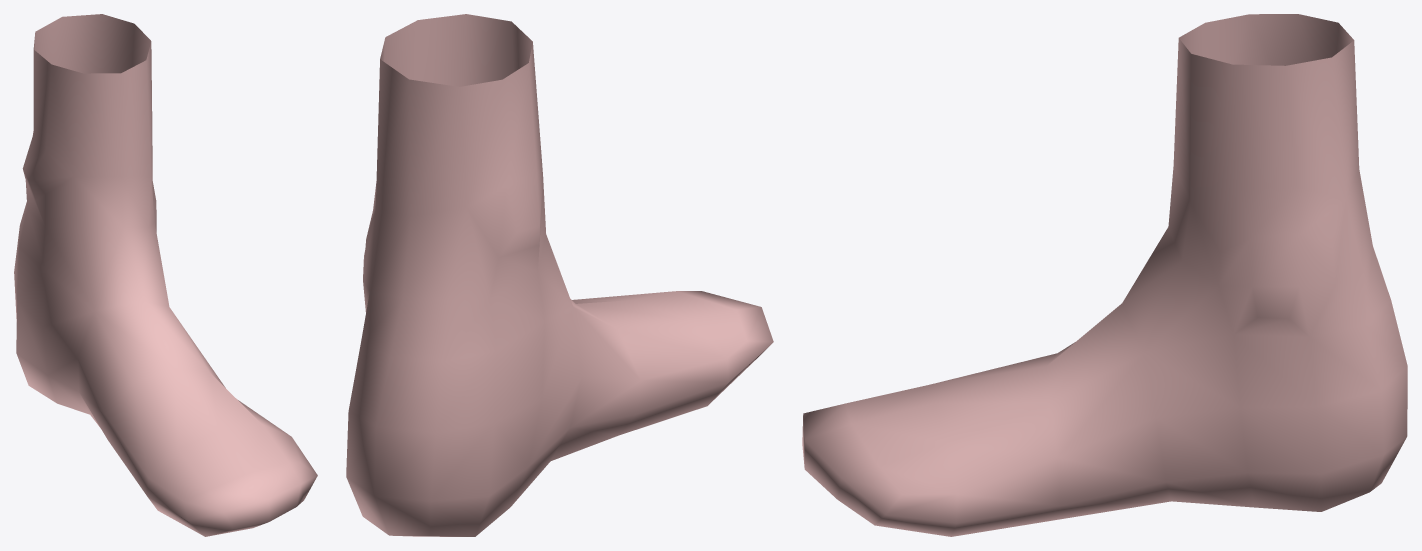
File: Superhero_Female_A_Foot02.fbx
The picture shows the model from 3 angles, left to right: view 1: azimuth 30°, elevation 25°; view 2: azimuth 150°, elevation 25°; view 3: azimuth 270°, elevation 25°; orthographic projection. The views are drawn at different scales.
Visible parts, largest first — view 1: Superhero_Female_A_Foot02; view 2: Superhero_Female_A_Foot02; view 3: Superhero_Female_A_Foot02.
Part boxes in pixels (left/top/right/bottom): Superhero_Female_A_Foot02: left=14, top=14, right=317, bottom=536; Superhero_Female_A_Foot02: left=346, top=14, right=773, bottom=536; Superhero_Female_A_Foot02: left=802, top=14, right=1407, bottom=536.
Size of the model in its own units: 0.6313 by 1.4 by 1.66.
